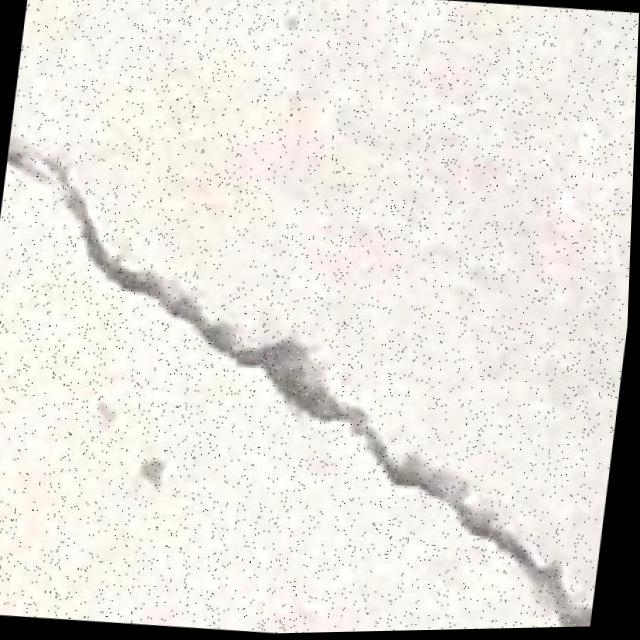Crack: (0, 109, 637, 640)
